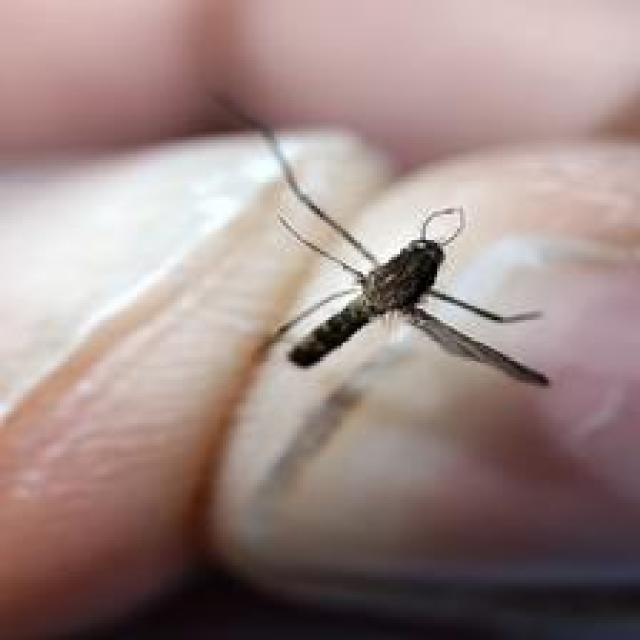Culex: (210, 90, 553, 499)
